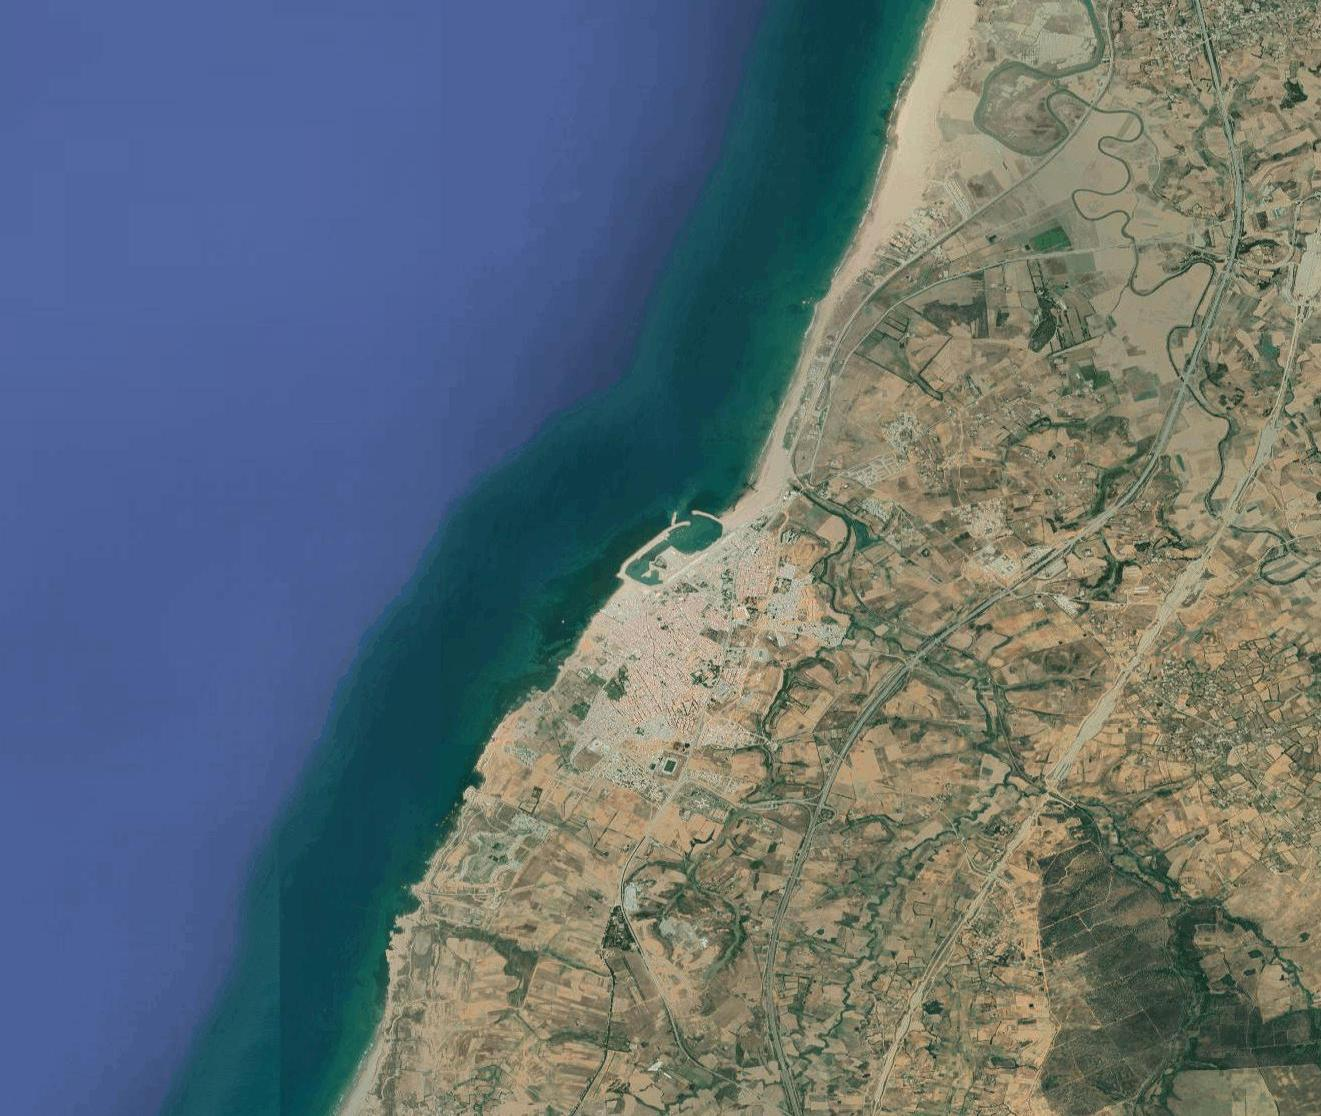harbor: (610, 502, 727, 591)
motorway: (837, 632, 951, 767), (948, 533, 1082, 634), (1076, 415, 1170, 533), (1166, 260, 1228, 415), (776, 768, 842, 914), (761, 909, 804, 1116), (1193, 2, 1229, 121), (1222, 121, 1243, 263)
